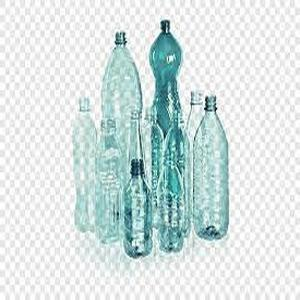Plastic: (193, 95, 228, 244), (73, 95, 97, 234), (123, 159, 156, 260), (157, 156, 188, 257)
